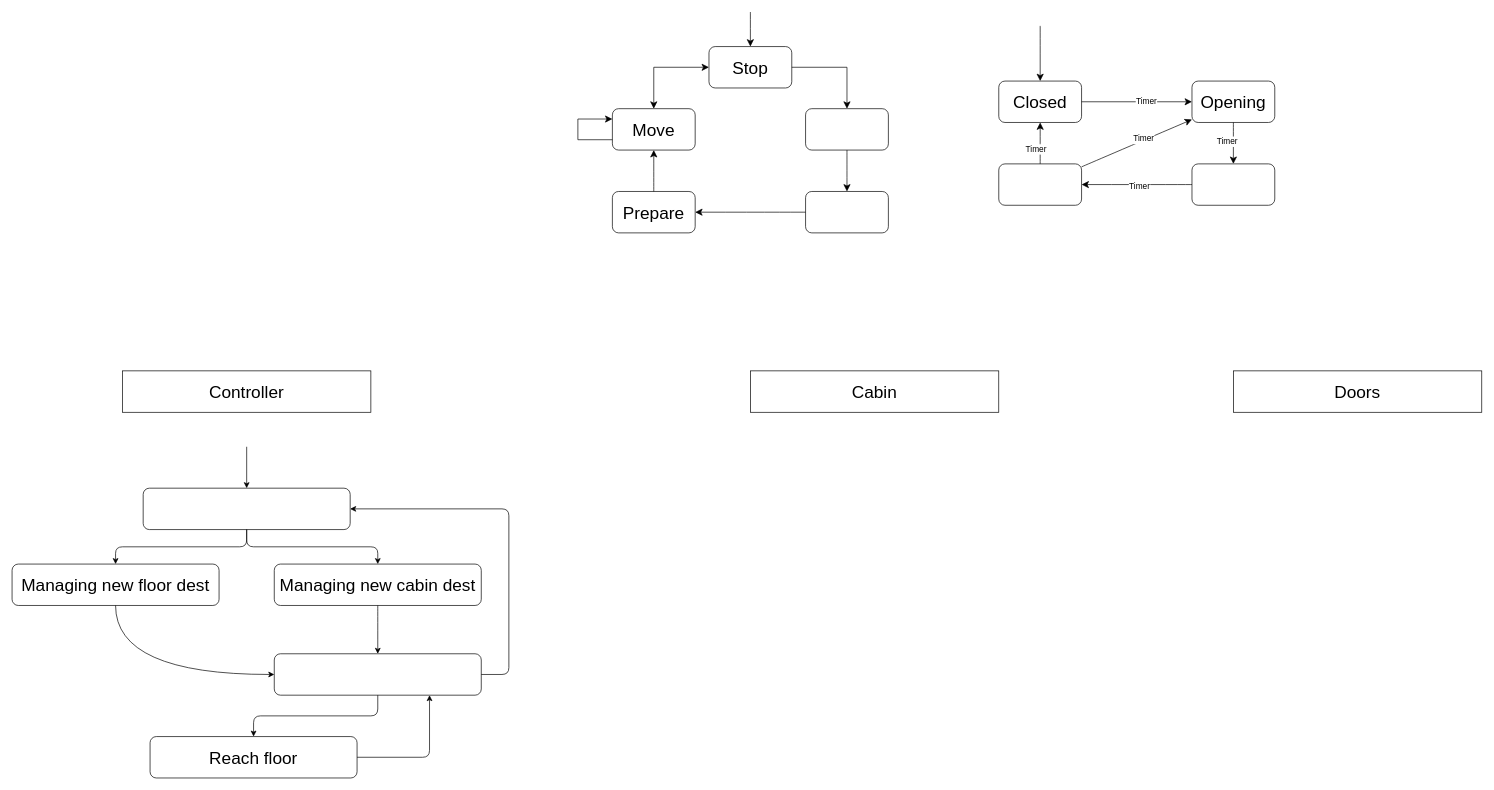
The diagram is 1494 pixels wide and 790 high, and some of its shapes have lost their labels. The shapes that lost their labels are listed below. From the top down, each one's centre as x and y in pixels, then its label:
At (846,129): "Lock".
At (1040,184): "Closing".
At (1233,184): "Opened".
At (846,212): "Unlock".
At (246,508): "Free".
At (377,674): "Managing cabin".
